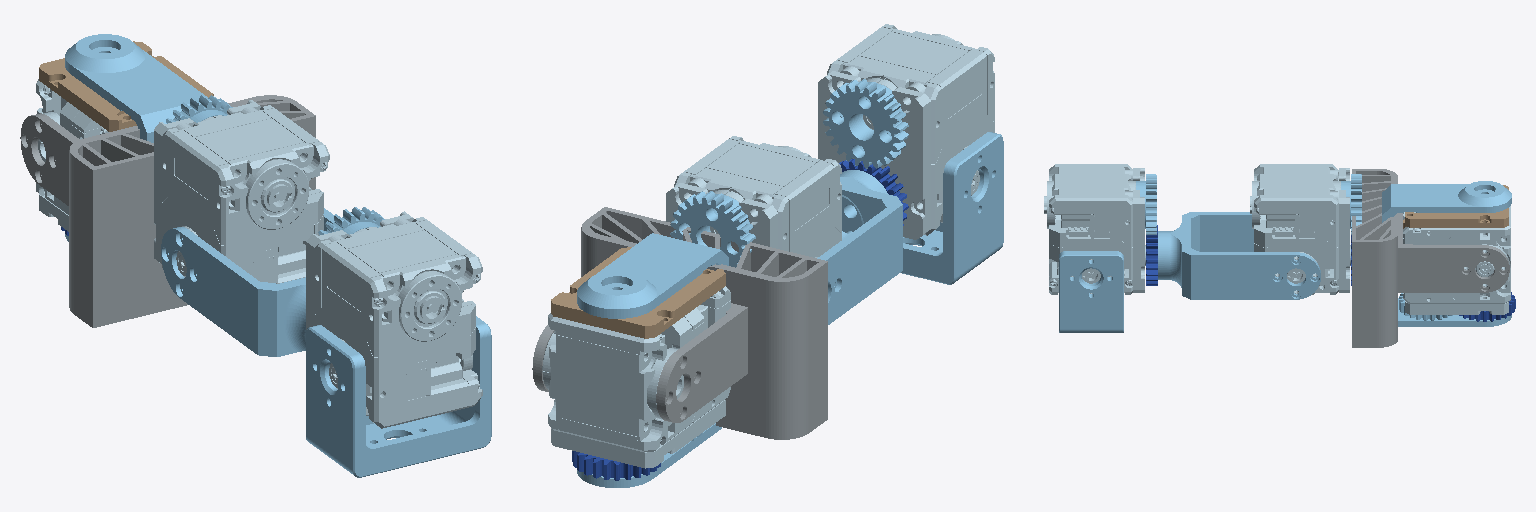
robot.urdf — left_arm_umi:
<?xml version="1.0" ?>
<robot name="left_arm_umi">
  <link name="sho_pitch_link">
    <visual>
      <origin xyz="0 0 0" rpy="0 -0 0"/>
      <geometry>
        <mesh filename="package:///meshes/left_sho_pitch_link_visual.stl"/>
      </geometry>
      <material name="sho_pitch_link_material">
        <color rgba="0.61568627450980395466 0.81176470588235294379 0.92941176470588227065 1.0"/>
      </material>
    </visual>
    <collision>
      <origin xyz="0 0 0" rpy="0 -0 0"/>
      <geometry>
        <mesh filename="package:///meshes/left_sho_pitch_link_collision.stl"/>
      </geometry>
    </collision>
    <inertial>
      <origin xyz="-1.025903438159899119e-18 -2.1966078074444220184e-18 0.012913250798677602602" rpy="0 0 0"/>
      <mass value="0.0085999999999999982708"/>
      <inertia ixx="1.8365636406635814379e-06" ixy="0" ixz="0" iyy="4.0110869076839152165e-06" iyz="0" izz="3.5160516450492493809e-06"/>
    </inertial>
  </link>

  <link name="2xl430_gears">
    <visual>
      <origin xyz="0 0 0" rpy="0 -0 0"/>
      <geometry>
        <mesh filename="package:///meshes/left_2xl430_gears_visual.stl"/>
      </geometry>
      <material name="2xl430_gears_material">
        <color rgba="0.75914767920569214965 0.85560384745670925444 0.90519468321360607721 1.0"/>
      </material>
    </visual>
    <collision>
      <origin xyz="0 0 0" rpy="0 -0 0"/>
      <geometry>
        <mesh filename="package:///meshes/left_2xl430_gears_collision.stl"/>
      </geometry>
    </collision>
    <inertial>
      <origin xyz="-0.011592905737980642444 -0.0024238553642583816373 -0.018551095523802015735" rpy="0 0 0"/>
      <mass value="0.11800003674524911501"/>
      <inertia ixx="2.7511021050428206944e-05" ixy="9.0043904315036704004e-07" ixz="-2.3349710124172453411e-08" iyy="3.2796197843345624423e-05" iyz="-6.5715119654599577247e-07" izz="3.5775739835744996948e-05"/>
    </inertial>
  </link>

  <link name="spur_1m_24t_drive">
    <visual>
      <origin xyz="0 0 0" rpy="0 -0 0"/>
      <geometry>
        <mesh filename="package:///meshes/left_spur_1m_24t_drive_visual.stl"/>
      </geometry>
      <material name="spur_1m_24t_drive_material">
        <color rgba="0.61568627450980406568 0.81176470588235294379 0.92941176470588238168 1.0"/>
      </material>
    </visual>
    <collision>
      <origin xyz="0 0 0" rpy="0 -0 0"/>
      <geometry>
        <mesh filename="package:///meshes/left_spur_1m_24t_drive_collision.stl"/>
      </geometry>
    </collision>
    <inertial>
      <origin xyz="3.0395421551447426547e-15 -3.3912620813973872492e-16 0.0048096451474093065287" rpy="0 0 0"/>
      <mass value="0.0031999999999999997197"/>
      <inertia ixx="1.4097598887016953379e-07" ixy="1.5562823114943523235e-15" ixz="7.4273784759770902112e-37" iyy="1.4097598803635996198e-07" iyz="7.8038995636436382948e-37" izz="2.4107776386988835496e-07"/>
    </inertial>
  </link>

  <joint name="left_sho_yaw_drive" type="revolute">
    <origin xyz="-0.024000000716142534662 -0.019000000152456227726 -0.019000000152442717699" rpy="1.5707963267945506125 -5.5729871745090160275e-14 6.2805146429461445464e-14"/>
    <parent link="2xl430_gears"/>
    <child link="spur_1m_24t_drive"/>
    <axis xyz="0 0 1"/>
    <limit effort="1" velocity="20" lower="-2.6179938779914944114" upper="2.6179938779914944114"/>
    <joint_properties friction="0.0"/>
  </joint>

  <link name="spur_1m_24t_driven">
    <visual>
      <origin xyz="0 0 0" rpy="0 -0 0"/>
      <geometry>
        <mesh filename="package:///meshes/left_spur_1m_24t_driven_visual.stl"/>
      </geometry>
      <material name="spur_1m_24t_driven_material">
        <color rgba="0.23137254901960788156 0.38039215686274502337 0.7058823529411765163 1.0"/>
      </material>
    </visual>
    <collision>
      <origin xyz="0 0 0" rpy="0 -0 0"/>
      <geometry>
        <mesh filename="package:///meshes/left_spur_1m_24t_driven_collision.stl"/>
      </geometry>
    </collision>
    <inertial>
      <origin xyz="-2.6903043908340867984e-18 -1.688384205958136519e-15 -0.00097237500038395777158" rpy="0 0 0"/>
      <mass value="0.0026999999999999997093"/>
      <inertia ixx="1.2202334915684080498e-07" ixy="1.3837295890494949211e-37" ixz="-1.0447421496749939075e-36" iyy="1.2202334915684064616e-07" iyz="3.3220397498769138301e-37" izz="2.3180293204341252239e-07"/>
    </inertial>
  </link>

  <link name="sho_yaw_link">
    <visual>
      <origin xyz="0 0 0" rpy="0 -0 0"/>
      <geometry>
        <mesh filename="package:///meshes/left_sho_yaw_link_visual.stl"/>
      </geometry>
      <material name="sho_yaw_link_material">
        <color rgba="0.61568627450980384364 0.81176470588235294379 0.92941176470588238168 1.0"/>
      </material>
    </visual>
    <collision>
      <origin xyz="0 0 0" rpy="0 -0 0"/>
      <geometry>
        <mesh filename="package:///meshes/left_sho_yaw_link_collision.stl"/>
      </geometry>
    </collision>
    <inertial>
      <origin xyz="-4.7730210054629770351e-18 2.6069328434163573568e-18 -0.024649285094360089132" rpy="0 0 0"/>
      <mass value="0.014500000000000007674"/>
      <inertia ixx="9.2365904614004439553e-06" ixy="3.5862833440690451918e-13" ixz="-8.2397007242855601464e-43" iyy="5.8163826335078791714e-06" iyz="-5.4352775587714288989e-35" izz="4.5074356741562122031e-06"/>
    </inertial>
  </link>

  <link name="2xl430_gears_2">
    <visual>
      <origin xyz="0 0 0" rpy="0 -0 0"/>
      <geometry>
        <mesh filename="package:///meshes/left_2xl430_gears_2_visual.stl"/>
      </geometry>
      <material name="2xl430_gears_2_material">
        <color rgba="0.75914767920569214965 0.85560384745670925444 0.90519468321360607721 1.0"/>
      </material>
    </visual>
    <collision>
      <origin xyz="0 0 0" rpy="0 -0 0"/>
      <geometry>
        <mesh filename="package:///meshes/left_2xl430_gears_2_collision.stl"/>
      </geometry>
    </collision>
    <inertial>
      <origin xyz="-0.011592905737981091738 -0.0024238553642542742458 -0.018551095523813909" rpy="0 0 0"/>
      <mass value="0.11800003674524911501"/>
      <inertia ixx="2.751102105042832214e-05" ixy="9.0043904315329650349e-07" ixz="-2.3349710125436329138e-08" iyy="3.2796197843348145193e-05" iyz="-6.5715119655126410565e-07" izz="3.5775739835745051158e-05"/>
    </inertial>
  </link>

  <link name="spur_1m_24t_drive_2">
    <visual>
      <origin xyz="0 0 0" rpy="0 -0 0"/>
      <geometry>
        <mesh filename="package:///meshes/left_spur_1m_24t_drive_2_visual.stl"/>
      </geometry>
      <material name="spur_1m_24t_drive_2_material">
        <color rgba="0.61568627450980406568 0.81176470588235294379 0.92941176470588238168 1.0"/>
      </material>
    </visual>
    <collision>
      <origin xyz="0 0 0" rpy="0 -0 0"/>
      <geometry>
        <mesh filename="package:///meshes/left_spur_1m_24t_drive_2_collision.stl"/>
      </geometry>
    </collision>
    <inertial>
      <origin xyz="3.0395421551447426547e-15 -3.3912620811388947869e-16 0.0048096451474092995898" rpy="0 0 0"/>
      <mass value="0.0031999999999999997197"/>
      <inertia ixx="1.4097598887016953379e-07" ixy="1.5562823102285579479e-15" ixz="2.9661020669666376683e-36" iyy="1.4097598803635998845e-07" iyz="9.1368612700525381613e-36" izz="2.4107776386988835496e-07"/>
    </inertial>
  </link>

  <joint name="left_elbow_yaw_drive" type="revolute">
    <origin xyz="-0.024000000716140806878 -0.019000000152450138846 -0.01900000015246447807" rpy="1.5707963267949478503 -2.5802640142449200815e-13 5.2180482157376444099e-14"/>
    <parent link="2xl430_gears_2"/>
    <child link="spur_1m_24t_drive_2"/>
    <axis xyz="0 0 1"/>
    <limit effort="1" velocity="20" lower="-2.6179938779914944114" upper="2.6179938779914944114"/>
    <joint_properties friction="0.0"/>
  </joint>

  <link name="spur_1m_24t_driven_2">
    <visual>
      <origin xyz="0 0 0" rpy="0 -0 0"/>
      <geometry>
        <mesh filename="package:///meshes/left_spur_1m_24t_driven_2_visual.stl"/>
      </geometry>
      <material name="spur_1m_24t_driven_2_material">
        <color rgba="0.23137254901960788156 0.38039215686274502337 0.7058823529411765163 1.0"/>
      </material>
    </visual>
    <collision>
      <origin xyz="0 0 0" rpy="0 -0 0"/>
      <geometry>
        <mesh filename="package:///meshes/left_spur_1m_24t_driven_2_collision.stl"/>
      </geometry>
    </collision>
    <inertial>
      <origin xyz="-2.6903043908350131707e-18 -1.685153565132015999e-15 -0.00097237500038395083268" rpy="0 0 0"/>
      <mass value="0.0026999999999999997093"/>
      <inertia ixx="1.2202334915684080498e-07" ixy="-5.3426136268858280334e-65" ixz="-2.7609150325300431337e-36" iyy="1.2202334915684064616e-07" iyz="5.8515286657488347587e-36" izz="2.3180293204341252239e-07"/>
    </inertial>
  </link>

  <link name="elb_yaw_link">
    <visual>
      <origin xyz="0 0 0" rpy="0 -0 0"/>
      <geometry>
        <mesh filename="package:///meshes/left_elb_yaw_link_visual.stl"/>
      </geometry>
      <material name="elb_yaw_link_material">
        <color rgba="0.61568627450980395466 0.81176470588235294379 0.92941176470588227065 1.0"/>
      </material>
    </visual>
    <collision>
      <origin xyz="0 0 0" rpy="0 -0 0"/>
      <geometry>
        <mesh filename="package:///meshes/left_elb_yaw_link_collision.stl"/>
      </geometry>
    </collision>
    <inertial>
      <origin xyz="5.3127688027774929136e-08 0.0019833638641961618201 -0.023416643551549959357" rpy="0 0 0"/>
      <mass value="0.017500000000000005135"/>
      <inertia ixx="1.4134344903109199776e-05" ixy="1.6945783922006120707e-12" ixz="-1.1286398721833143996e-11" iyy="6.6435900776211374285e-06" iyz="1.0545227077253055462e-06" izz="8.9925290757999027595e-06"/>
    </inertial>
  </link>

  <link name="spur_1m_24t_driven_3">
    <visual>
      <origin xyz="0 0 0" rpy="0 -0 0"/>
      <geometry>
        <mesh filename="package:///meshes/left_spur_1m_24t_driven_3_visual.stl"/>
      </geometry>
      <material name="spur_1m_24t_driven_3_material">
        <color rgba="0.23137254901960788156 0.38039215686274502337 0.7058823529411765163 1.0"/>
      </material>
    </visual>
    <collision>
      <origin xyz="0 0 0" rpy="0 -0 0"/>
      <geometry>
        <mesh filename="package:///meshes/left_spur_1m_24t_driven_3_collision.stl"/>
      </geometry>
    </collision>
    <inertial>
      <origin xyz="-2.6903043908334539378e-18 -1.6883842059581396744e-15 -0.0025723750003839550293" rpy="0 0 0"/>
      <mass value="0.0026999999999999997093"/>
      <inertia ixx="1.2202334915684080498e-07" ixy="1.650838217124924475e-37" ixz="5.8515286657488347587e-36" iyy="1.2202334915684064616e-07" iyz="0" izz="2.3180293204341252239e-07"/>
    </inertial>
  </link>

  <link name="2xl430_gears_3">
    <visual>
      <origin xyz="0 0 0" rpy="0 -0 0"/>
      <geometry>
        <mesh filename="package:///meshes/left_2xl430_gears_3_visual.stl"/>
      </geometry>
      <material name="2xl430_gears_3_material">
        <color rgba="0.75914767920569214965 0.85560384745670925444 0.90519468321360607721 1.0"/>
      </material>
    </visual>
    <collision>
      <origin xyz="0 0 0" rpy="0 -0 0"/>
      <geometry>
        <mesh filename="package:///meshes/left_2xl430_gears_3_collision.stl"/>
      </geometry>
    </collision>
    <inertial>
      <origin xyz="0.00044890447619909743101 0.011592905379898219356 -0.024576144788197168412" rpy="0 0 0"/>
      <mass value="0.11800003674524911501"/>
      <inertia ixx="3.5775739835742089931e-05" ixy="2.3349710123834755271e-08" ixz="6.5715119654965728415e-07" iyy="2.7511021050427807144e-05" iyz="9.0043904315220340747e-07" izz="3.2796197843345726067e-05"/>
    </inertial>
  </link>

  <link name="spur_1m_24t_drive_3">
    <visual>
      <origin xyz="0 0 0" rpy="0 -0 0"/>
      <geometry>
        <mesh filename="package:///meshes/left_spur_1m_24t_drive_3_visual.stl"/>
      </geometry>
      <material name="spur_1m_24t_drive_3_material">
        <color rgba="0.61568627450980406568 0.81176470588235294379 0.92941176470588238168 1.0"/>
      </material>
    </visual>
    <collision>
      <origin xyz="0 0 0" rpy="0 -0 0"/>
      <geometry>
        <mesh filename="package:///meshes/left_spur_1m_24t_drive_3_collision.stl"/>
      </geometry>
    </collision>
    <inertial>
      <origin xyz="3.0326032612408350319e-15 -3.3912620811388928147e-16 0.0048096451474093030592" rpy="0 0 0"/>
      <mass value="0.0031999999999999997197"/>
      <inertia ixx="1.4097598887016953379e-07" ixy="1.5562823135372803981e-15" ixz="1.2722418906858421266e-35" iyy="1.4097598803635998845e-07" iyz="4.1397718535750480265e-37" izz="2.4107776386988835496e-07"/>
    </inertial>
  </link>

  <joint name="left_wrist_pitch_drive" type="revolute">
    <origin xyz="-1.5244492967147879128e-10 0.024000000358059658812 -0.0080000000000056449567" rpy="-3.0533404903795228175e-14 -1.7699329119283895979e-13 -1.5707963267949680564"/>
    <parent link="2xl430_gears_3"/>
    <child link="spur_1m_24t_drive_3"/>
    <axis xyz="0 0 1"/>
    <limit effort="1" velocity="20" lower="-1.9198621771937625091" upper="1.3962634015954635824"/>
    <joint_properties friction="0.0"/>
  </joint>

  <link name="hand">
    <visual>
      <origin xyz="0 0 0" rpy="0 -0 0"/>
      <geometry>
        <mesh filename="package:///meshes/left_hand_visual.stl"/>
      </geometry>
      <material name="hand_material">
        <color rgba="0.6414991312980887761 0.67624720774385704836 0.69709605361131787848 1.0"/>
      </material>
    </visual>
    <collision>
      <origin xyz="0 0 0" rpy="0 -0 0"/>
      <geometry>
        <mesh filename="package:///meshes/left_hand_collision.stl"/>
      </geometry>
    </collision>
    <inertial>
      <origin xyz="0.0037132560743682414481 -0.042135580180293757957 -0.019513129422372377242" rpy="0 0 0"/>
      <mass value="0.039500000000000000389"/>
      <inertia ixx="2.4655505305535776886e-05" ixy="6.2292690516533964304e-07" ixz="1.3905202790272152079e-08" iyy="2.5499495709674505013e-05" iyz="-4.0482284361498457642e-08" izz="1.3476712281039049114e-05"/>
    </inertial>
  </link>

  <joint name="left_wrist_roll" type="revolute">
    <origin xyz="0.019000000000009276829 -3.5808436771311846769e-10 -0.027000000152447547336" rpy="1.2196020852255911422e-29 1.5707963267946087882 0"/>
    <parent link="2xl430_gears_3"/>
    <child link="hand"/>
    <axis xyz="0 0 1"/>
    <limit effort="1" velocity="20" lower="-1.9198621771937625091" upper="1.3962634015954635824"/>
    <joint_properties friction="0.0"/>
  </joint>

  <link name="wrist_bearing_plate">
    <visual>
      <origin xyz="0 0 0" rpy="0 -0 0"/>
      <geometry>
        <mesh filename="package:///meshes/left_wrist_bearing_plate_visual.stl"/>
      </geometry>
      <material name="wrist_bearing_plate_material">
        <color rgba="0.71932243125689054875 0.63128434304969727187 0.52422389360984933404 1.0"/>
      </material>
    </visual>
    <collision>
      <origin xyz="0 0 0" rpy="0 -0 0"/>
      <geometry>
        <mesh filename="package:///meshes/left_wrist_bearing_plate_collision.stl"/>
      </geometry>
    </collision>
    <inertial>
      <origin xyz="-0.0075835583121499931455 -0.015499999999999977338 -0.0018386323705903331437" rpy="0 0 0"/>
      <mass value="0.0049000367468305557062"/>
      <inertia ixx="4.970743010915013972e-07" ixy="1.1194558104431275937e-22" ixz="1.8100904820813988926e-08" iyy="7.1268523603538489532e-07" iyz="1.6072883979218723091e-23" izz="1.1919657811600100764e-06"/>
    </inertial>
  </link>

  <joint name="left_wrist_pitch_fixed" type="fixed">
    <origin xyz="0.015500000000005004566 -1.8207657603852567263e-14 -0.044999999999998596678" rpy="4.0494715863782802008e-14 -2.8209346585231002385e-13 -1.570796326794906328"/>
    <parent link="2xl430_gears_3"/>
    <child link="wrist_bearing_plate"/>
    <axis xyz="0 0 1"/>
    <limit effort="1" velocity="20"/>
    <joint_properties friction="0.0"/>
  </joint>

  <joint name="left_wrist_pitch_driven" type="revolute">
    <origin xyz="0 -3.9443045261050590271e-30 -0.0015999999999999972577" rpy="6.0387003530043805309e-16 -4.4981039962148287683e-16 -1.570796326794896558"/>
    <parent link="spur_1m_24t_driven_3"/>
    <child link="2xl430_gears_3"/>
    <axis xyz="0 0 1"/>
    <limit effort="1" velocity="20" lower="-1.3962634015954635824" upper="1.9198621771937625091"/>
    <joint_properties friction="0.0"/>
  </joint>

  <joint name="left_wrist_roll_fixed" type="fixed">
    <origin xyz="1.5777218104420236108e-30 -0.025300000000000006511 -0.05200000000000001843" rpy="1.5707963267949043296 -1.5707963267948885644 0"/>
    <parent link="elb_yaw_link"/>
    <child link="spur_1m_24t_driven_3"/>
    <axis xyz="0 0 1"/>
    <limit effort="1" velocity="20"/>
    <joint_properties friction="0.0"/>
  </joint>

  <joint name="left_elbow_yaw_fixed" type="fixed">
    <origin xyz="-1.5777218104420236108e-30 0 0.0016000000000000041966" rpy="-3.1415926535897873428 3.0591810185765374017e-29 0"/>
    <parent link="spur_1m_24t_driven_2"/>
    <child link="elb_yaw_link"/>
    <axis xyz="0 0 1"/>
    <limit effort="1" velocity="20"/>
    <joint_properties friction="0.0"/>
  </joint>

  <joint name="left_elbow_yaw_driven" type="revolute">
    <origin xyz="-3.5806251019732115992e-10 -0.027000000152458583647 -0.019000000000009956841" rpy="1.5707963267948450437 1.5707963267948292785 0"/>
    <parent link="2xl430_gears_2"/>
    <child link="spur_1m_24t_driven_2"/>
    <axis xyz="0 0 1"/>
    <limit effort="1" velocity="20" lower="-2.6179938779914944114" upper="2.6179938779914944114"/>
    <joint_properties friction="0.0"/>
  </joint>

  <joint name="left_elbow_roll" type="revolute">
    <origin xyz="-3.4694469519536141888e-18 -0.018999999999999999528 -0.059000000000000024647" rpy="1.570796326794896336 -5.3290705182069808708e-14 -2.456539448233997185e-14"/>
    <parent link="sho_yaw_link"/>
    <child link="2xl430_gears_2"/>
    <axis xyz="0 0 1"/>
    <limit effort="1" velocity="20" lower="-1.9198621771937625091" upper="2.4434609527920612138"/>
    <joint_properties friction="0.0"/>
  </joint>

  <joint name="left_sho_yaw_fixed" type="fixed">
    <origin xyz="3.4694469519536141888e-18 -9.8607613152626475676e-31 0.0015999999999999972577" rpy="3.141592653589793116 1.2621774483536197294e-29 4.7331654313260743357e-30"/>
    <parent link="spur_1m_24t_driven"/>
    <child link="sho_yaw_link"/>
    <axis xyz="0 0 1"/>
    <limit effort="1" velocity="20"/>
    <joint_properties friction="0.0"/>
  </joint>

  <joint name="left_sho_yaw_driven" type="revolute">
    <origin xyz="-3.5807158627054747058e-10 -0.02700000015245348009 -0.018999999999996589062" rpy="1.5707963267947120389 -1.3118271136488182808e-14 9.2981178312429448086e-14"/>
    <parent link="2xl430_gears"/>
    <child link="spur_1m_24t_driven"/>
    <axis xyz="0 0 1"/>
    <limit effort="1" velocity="20" lower="-2.6179938779914944114" upper="2.6179938779914944114"/>
    <joint_properties friction="0.0"/>
  </joint>

  <joint name="left_sho_roll" type="revolute">
    <origin xyz="-0.019000000000000016875 1.4231671397091401999e-17 0.027000000000000023981" rpy="-3.141592653589793116 1.5707963267948372721 0"/>
    <parent link="sho_pitch_link"/>
    <child link="2xl430_gears"/>
    <axis xyz="0 0 1"/>
    <limit effort="1" velocity="20" lower="-1.570796326794896558" upper="0.34906585039886589561"/>
    <joint_properties friction="0.0"/>
  </joint>


</robot>

--- Facts derived from the render (not from the file) ---
The picture shows the robot from 3 angles, left to right: view 1: azimuth 30°, elevation 25°; view 2: azimuth 150°, elevation 25°; view 3: azimuth 270°, elevation 25°; orthographic projection.
Model left_arm_umi with 14 links and 13 joints (9 revolute, 4 fixed), rooted at sho_pitch_link, posed all joints at 0.
Visible links, largest first — view 1: 2xl430_gears, 2xl430_gears_2, hand, sho_pitch_link, sho_yaw_link, elb_yaw_link, wrist_bearing_plate, 2xl430_gears_3, spur_1m_24t_drive, spur_1m_24t_drive_2; view 2: hand, 2xl430_gears_3, 2xl430_gears, 2xl430_gears_2, sho_pitch_link, elb_yaw_link, sho_yaw_link, spur_1m_24t_drive, wrist_bearing_plate, spur_1m_24t_drive_2, spur_1m_24t_driven_3, spur_1m_24t_driven; view 3: hand, sho_yaw_link, 2xl430_gears_2, 2xl430_gears, sho_pitch_link, 2xl430_gears_3, elb_yaw_link, wrist_bearing_plate, spur_1m_24t_drive, spur_1m_24t_drive_2, spur_1m_24t_driven.
Boxes of the visible links, left/top/right/bottom form: 2xl430_gears: left=306, top=211, right=482, bottom=428; 2xl430_gears_2: left=154, top=100, right=329, bottom=283; hand: left=20, top=95, right=315, bottom=327; sho_pitch_link: left=306, top=316, right=491, bottom=477; sho_yaw_link: left=161, top=208, right=334, bottom=356; elb_yaw_link: left=65, top=34, right=207, bottom=241; wrist_bearing_plate: left=39, top=41, right=213, bottom=131; 2xl430_gears_3: left=36, top=79, right=108, bottom=231; spur_1m_24t_drive: left=318, top=207, right=384, bottom=234; spur_1m_24t_drive_2: left=166, top=95, right=232, bottom=123; hand: left=532, top=207, right=827, bottom=439; 2xl430_gears_3: left=542, top=286, right=730, bottom=468; 2xl430_gears: left=818, top=24, right=994, bottom=239; 2xl430_gears_2: left=666, top=136, right=841, bottom=257; sho_pitch_link: left=901, top=132, right=1003, bottom=284; elb_yaw_link: left=577, top=233, right=728, bottom=487; sho_yaw_link: left=817, top=170, right=902, bottom=324; spur_1m_24t_drive: left=823, top=79, right=908, bottom=168; wrist_bearing_plate: left=551, top=247, right=725, bottom=338; spur_1m_24t_drive_2: left=670, top=191, right=755, bottom=267; spur_1m_24t_driven_3: left=572, top=451, right=660, bottom=480; spur_1m_24t_driven: left=839, top=159, right=908, bottom=225; hand: left=1352, top=169, right=1509, bottom=347; sho_yaw_link: left=1158, top=212, right=1320, bottom=299; 2xl430_gears_2: left=1250, top=164, right=1350, bottom=294; 2xl430_gears: left=1044, top=164, right=1145, bottom=294; sho_pitch_link: left=1059, top=251, right=1123, bottom=332; 2xl430_gears_3: left=1403, top=206, right=1510, bottom=314; elb_yaw_link: left=1382, top=181, right=1511, bottom=326; wrist_bearing_plate: left=1403, top=185, right=1508, bottom=228; spur_1m_24t_drive: left=1136, top=174, right=1156, bottom=234; spur_1m_24t_drive_2: left=1341, top=174, right=1361, bottom=234; spur_1m_24t_driven: left=1146, top=225, right=1157, bottom=285.
Size in the robot's own frame: 0.074 by 0.2012 by 0.0652 metres.
14 mesh visuals loaded from 14 distinct referenced files (14 binary STL).